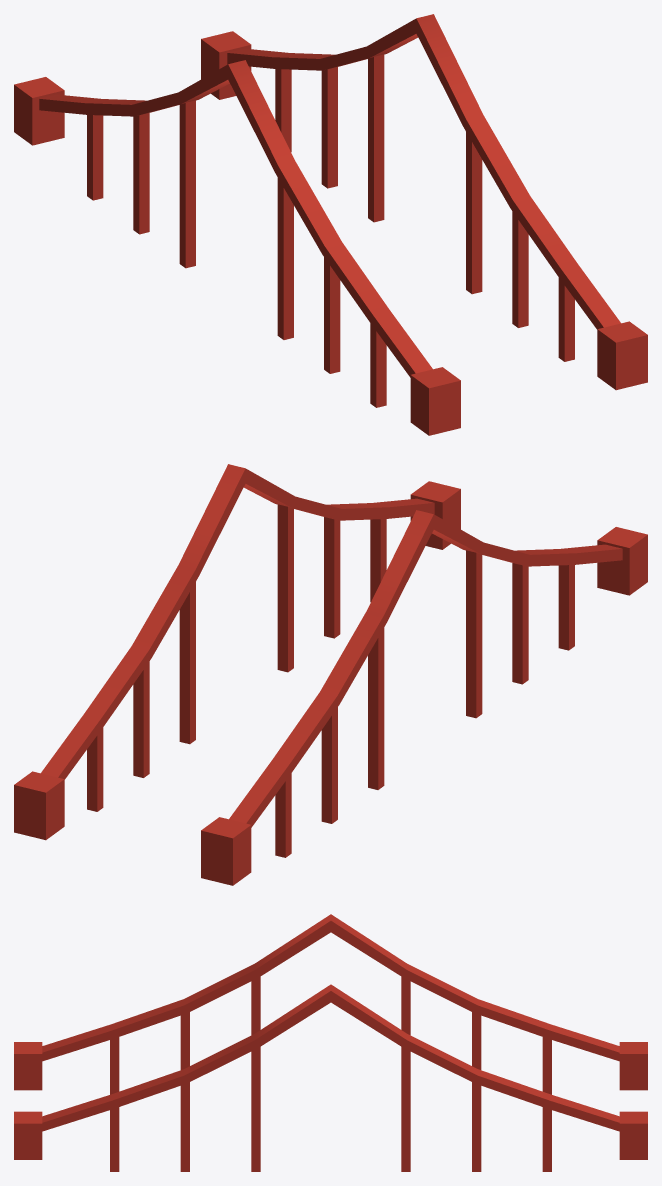
The model's file is bridge_part_03.FBX.
The picture shows the model from 3 angles, top to bottom: view 1: azimuth 30°, elevation 25°; view 2: azimuth 150°, elevation 25°; view 3: azimuth 270°, elevation 25°; orthographic projection. The views are drawn at different scales.
Visible parts, largest first — view 1: bridge_part_03; view 2: bridge_part_03; view 3: bridge_part_03.
Boxes of the visible parts, bbox=[...] form: bridge_part_03: bbox=[14, 14, 647, 435]; bridge_part_03: bbox=[14, 464, 647, 885]; bridge_part_03: bbox=[14, 914, 647, 1171].
Bounding box in the file's own units: 638 × 2093 × 664.
Materials: 1 (1 with a texture image).
